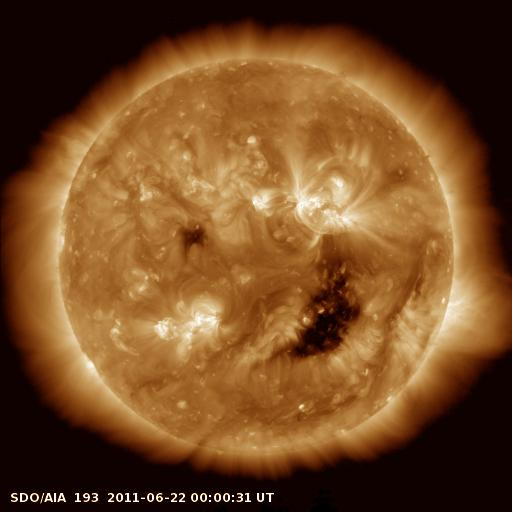coronal_hole: (287, 252, 368, 361), (172, 220, 214, 255)
